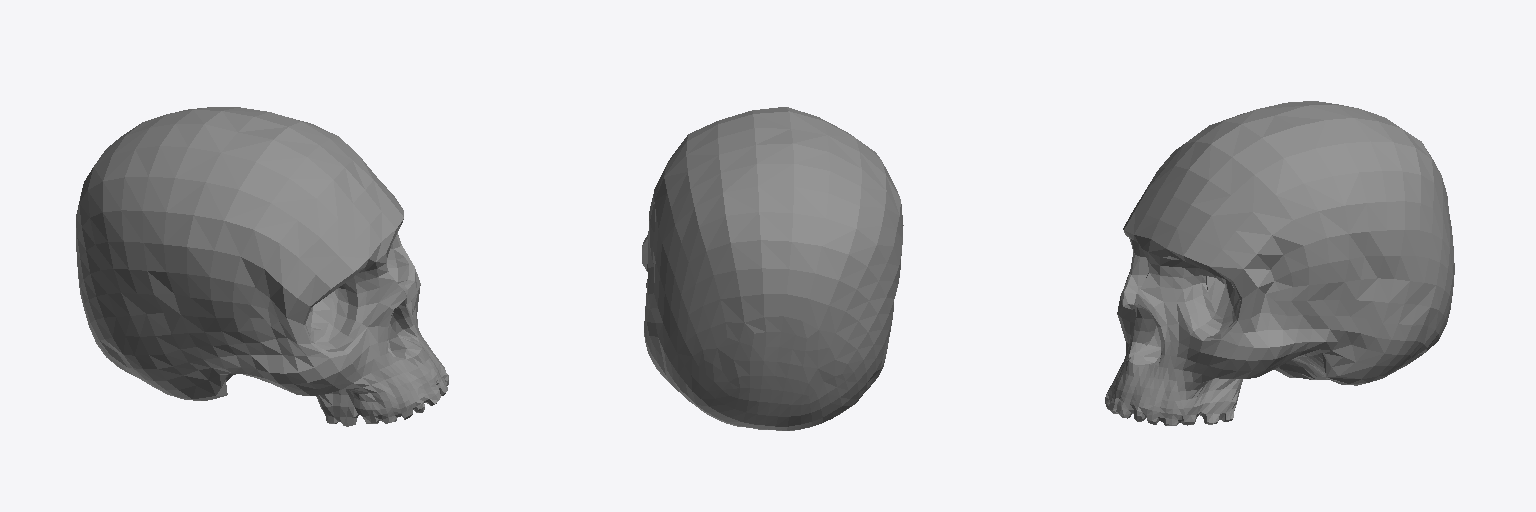
Rendered from skull.obj.
3 renders of one model, left to right at view 1: azimuth 30°, elevation 25°; view 2: azimuth 150°, elevation 25°; view 3: azimuth 270°, elevation 25°, orthographic.
Visible parts, largest first — view 1: skull; view 2: skull; view 3: skull.
Part boxes in pixels (left/top/right/bottom): skull: left=76, top=107, right=448, bottom=426; skull: left=642, top=107, right=903, bottom=430; skull: left=1105, top=101, right=1454, bottom=425.
Size of the model in its own units: 0.0702 by 0.0644 by 0.0772.